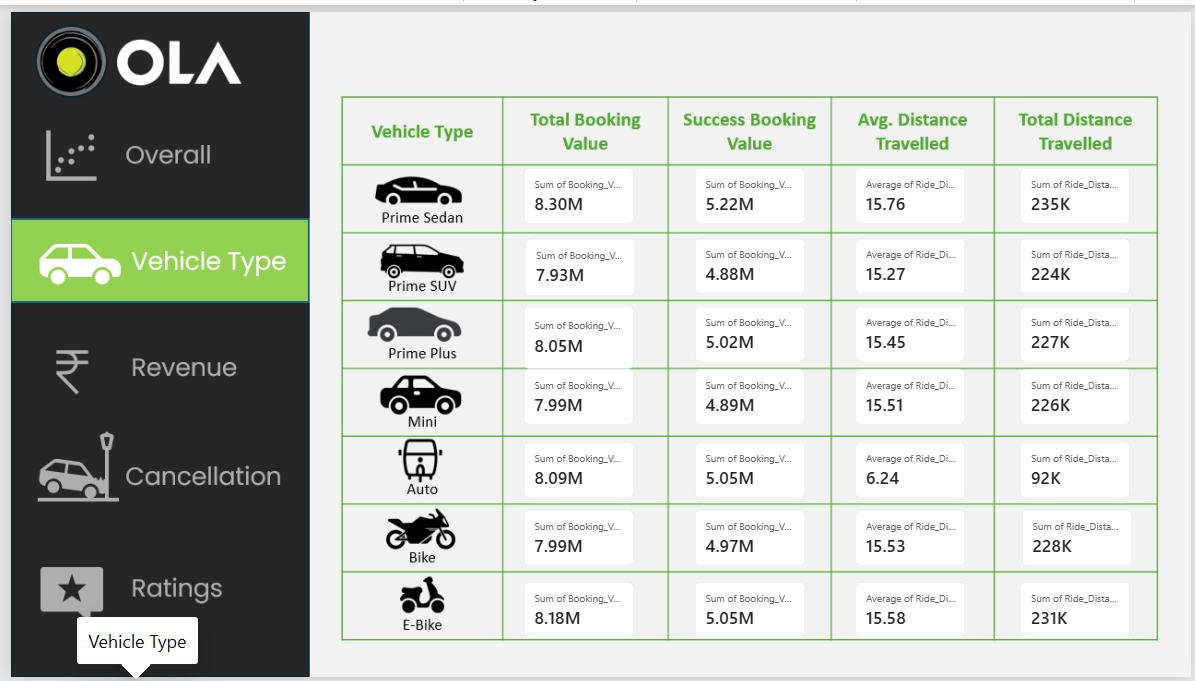

Layout of this report page (visuals, bound fields, positions):
{"tool":"powerbi","page":{"name":"Vehicle Type","canvas":[1920,1080],"ordinal":1},"visuals":[{"type":"cardVisual","fields":{"Data":["Sum(July.Booking_Value)"]},"box":[835.1,252.9,178.9,90.7],"z":0},{"type":"cardVisual","fields":{"Data":["Sum(July.Booking_Value)"]},"box":[836.2,368.5,178.6,93.5],"z":1000},{"type":"cardVisual","fields":{"Data":["Sum(July.Booking_Value)"]},"box":[835.1,477.2,178.9,102.6],"z":2000},{"type":"cardVisual","fields":{"Data":["Sum(July.Booking_Value)"]},"box":[835.1,579.8,178.9,90.7],"z":3000},{"type":"cardVisual","fields":{"Data":["Sum(July.Booking_Value)"]},"box":[835.1,699.1,178.9,90.7],"z":4000},{"type":"cardVisual","fields":{"Data":["Sum(July.Booking_Value)"]},"box":[835.1,808.8,178.9,90.7],"z":5000},{"type":"cardVisual","fields":{"Data":["Sum(July.Booking_Value)"]},"box":[835.1,925.7,178.9,90.7],"z":6000},{"type":"cardVisual","fields":{"Data":["Sum(July.Booking_Value)"]},"box":[1111.8,252.9,178.9,90.7],"z":7000},{"type":"cardVisual","fields":{"Data":["Sum(July.Booking_Value)"]},"box":[1111.8,367.4,178.9,90.7],"z":8000},{"type":"cardVisual","fields":{"Data":["Sum(July.Booking_Value)"]},"box":[1111.8,477.2,178.9,90.7],"z":9000},{"type":"cardVisual","fields":{"Data":["Sum(July.Booking_Value)"]},"box":[1111.8,579.8,178.9,90.7],"z":10000},{"type":"cardVisual","fields":{"Data":["Sum(July.Booking_Value)"]},"box":[1111.8,699.1,178.9,90.7],"z":11000},{"type":"cardVisual","fields":{"Data":["Sum(July.Booking_Value)"]},"box":[1111.8,808.8,178.9,90.7],"z":12000},{"type":"cardVisual","fields":{"Data":["Sum(July.Booking_Value)"]},"box":[1111.8,925.7,178.9,90.7],"z":13000},{"type":"cardVisual","fields":{"Data":["Avg(July.Ride_Distance)"]},"box":[1374.3,252.9,178.9,90.7],"z":14000},{"type":"cardVisual","fields":{"Data":["Avg(July.Ride_Distance)"]},"box":[1374.3,367.4,178.9,90.7],"z":15000},{"type":"cardVisual","fields":{"Data":["Avg(July.Ride_Distance)"]},"box":[1374.3,477.2,178.9,90.7],"z":16000},{"type":"cardVisual","fields":{"Data":["Avg(July.Ride_Distance)"]},"box":[1374.3,579.8,178.9,90.7],"z":17000},{"type":"cardVisual","fields":{"Data":["Avg(July.Ride_Distance)"]},"box":[1374.3,699.1,178.9,90.7],"z":18000},{"type":"cardVisual","fields":{"Data":["Avg(July.Ride_Distance)"]},"box":[1374.3,808.8,178.9,90.7],"z":19000},{"type":"cardVisual","fields":{"Data":["Avg(July.Ride_Distance)"]},"box":[1374.3,925.7,178.9,90.7],"z":20000},{"type":"cardVisual","fields":{"Data":["Sum(July.Ride_Distance)"]},"box":[1641.5,252.9,178.9,90.7],"z":21000},{"type":"cardVisual","fields":{"Data":["Sum(July.Ride_Distance)"]},"box":[1641.5,367.4,178.9,90.7],"z":22000},{"type":"cardVisual","fields":{"Data":["Sum(July.Ride_Distance)"]},"box":[1641.5,477.2,178.9,90.7],"z":23000},{"type":"cardVisual","fields":{"Data":["Sum(July.Ride_Distance)"]},"box":[1641.5,579.8,178.9,90.7],"z":24000},{"type":"cardVisual","fields":{"Data":["Sum(July.Ride_Distance)"]},"box":[1641.5,699.1,178.9,90.7],"z":25000},{"type":"cardVisual","fields":{"Data":["Sum(July.Ride_Distance)"]},"box":[1643.9,808.8,178.9,90.7],"z":26000},{"type":"cardVisual","fields":{"Data":["Sum(July.Ride_Distance)"]},"box":[1641.5,925.7,178.9,90.7],"z":27000}]}

Visuals, with their boxes on the page's 1920x1080 design canvas (x1, y1, x2, y2). These are canvas units, not pixel positions in the 1195x681 screenshot, which may show the page scaled, cropped or inside an application window:
cardVisual - Sum(July.Booking_Value): box=[835, 253, 1014, 344]
cardVisual - Sum(July.Booking_Value): box=[836, 368, 1015, 462]
cardVisual - Sum(July.Booking_Value): box=[835, 477, 1014, 580]
cardVisual - Sum(July.Booking_Value): box=[835, 580, 1014, 670]
cardVisual - Sum(July.Booking_Value): box=[835, 699, 1014, 790]
cardVisual - Sum(July.Booking_Value): box=[835, 809, 1014, 900]
cardVisual - Sum(July.Booking_Value): box=[835, 926, 1014, 1016]
cardVisual - Sum(July.Booking_Value): box=[1112, 253, 1291, 344]
cardVisual - Sum(July.Booking_Value): box=[1112, 367, 1291, 458]
cardVisual - Sum(July.Booking_Value): box=[1112, 477, 1291, 568]
cardVisual - Sum(July.Booking_Value): box=[1112, 580, 1291, 670]
cardVisual - Sum(July.Booking_Value): box=[1112, 699, 1291, 790]
cardVisual - Sum(July.Booking_Value): box=[1112, 809, 1291, 900]
cardVisual - Sum(July.Booking_Value): box=[1112, 926, 1291, 1016]
cardVisual - Avg(July.Ride_Distance): box=[1374, 253, 1553, 344]
cardVisual - Avg(July.Ride_Distance): box=[1374, 367, 1553, 458]
cardVisual - Avg(July.Ride_Distance): box=[1374, 477, 1553, 568]
cardVisual - Avg(July.Ride_Distance): box=[1374, 580, 1553, 670]
cardVisual - Avg(July.Ride_Distance): box=[1374, 699, 1553, 790]
cardVisual - Avg(July.Ride_Distance): box=[1374, 809, 1553, 900]
cardVisual - Avg(July.Ride_Distance): box=[1374, 926, 1553, 1016]
cardVisual - Sum(July.Ride_Distance): box=[1642, 253, 1820, 344]
cardVisual - Sum(July.Ride_Distance): box=[1642, 367, 1820, 458]
cardVisual - Sum(July.Ride_Distance): box=[1642, 477, 1820, 568]
cardVisual - Sum(July.Ride_Distance): box=[1642, 580, 1820, 670]
cardVisual - Sum(July.Ride_Distance): box=[1642, 699, 1820, 790]
cardVisual - Sum(July.Ride_Distance): box=[1644, 809, 1823, 900]
cardVisual - Sum(July.Ride_Distance): box=[1642, 926, 1820, 1016]
